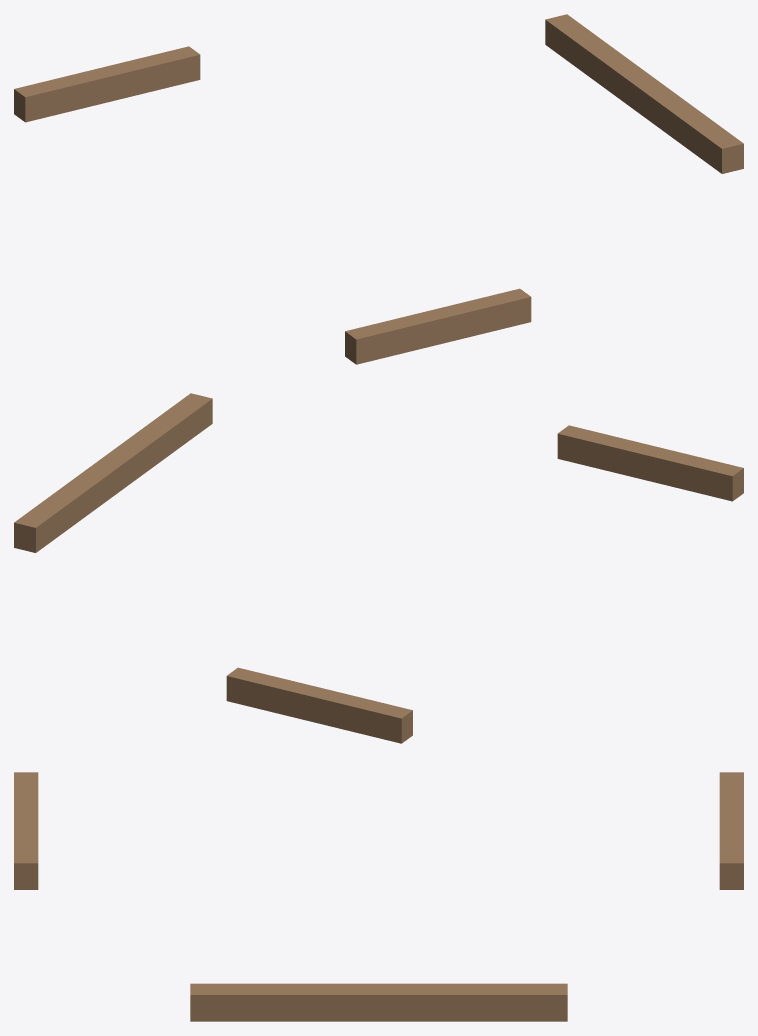
File: SM_Theater_Main_Bars.fbx
3 views of the same model, one above another, from view 1: azimuth 30°, elevation 25°; view 2: azimuth 150°, elevation 25°; view 3: azimuth 270°, elevation 25° (orthographic). The views are drawn at different scales.
Parts seen in each view (by area): view 1: SM_Theater_Main_Bars; view 2: SM_Theater_Main_Bars; view 3: SM_Theater_Main_Bars.
Part boxes in pixels (x1,y1,x2,y2): SM_Theater_Main_Bars: [14, 14, 743, 364]; SM_Theater_Main_Bars: [14, 393, 743, 743]; SM_Theater_Main_Bars: [14, 772, 743, 1021].
Size of the model in its own units: 2150 by 200 by 2710.
